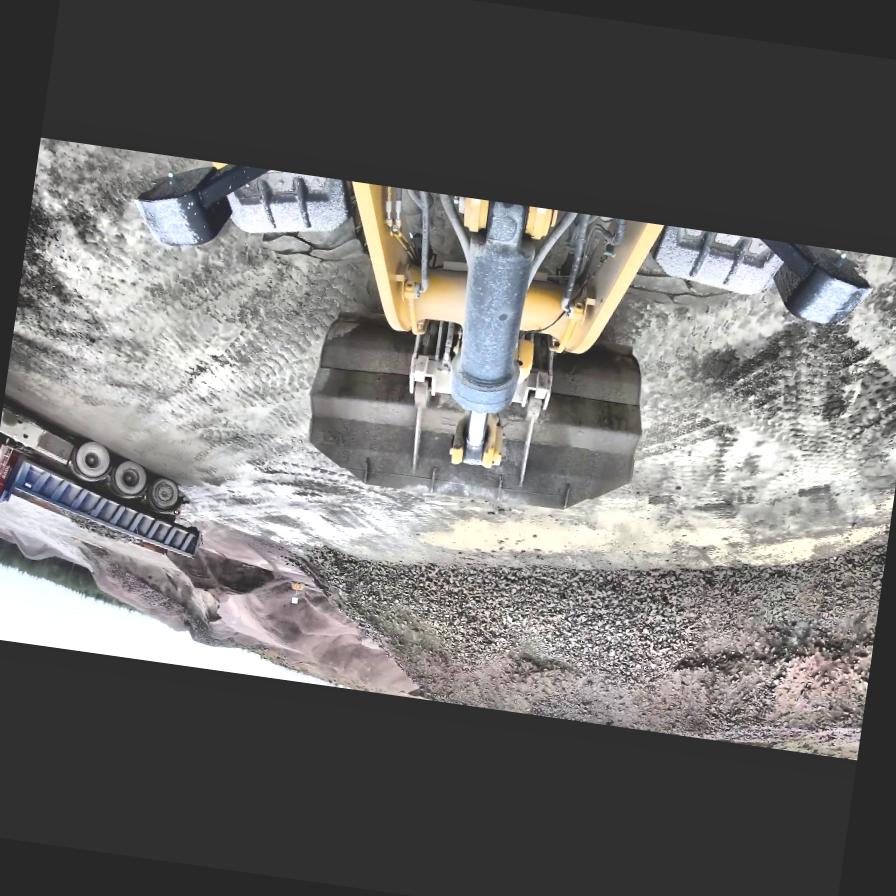anchor: (446, 407, 507, 471)
pile of gravel: (263, 433, 890, 760)
